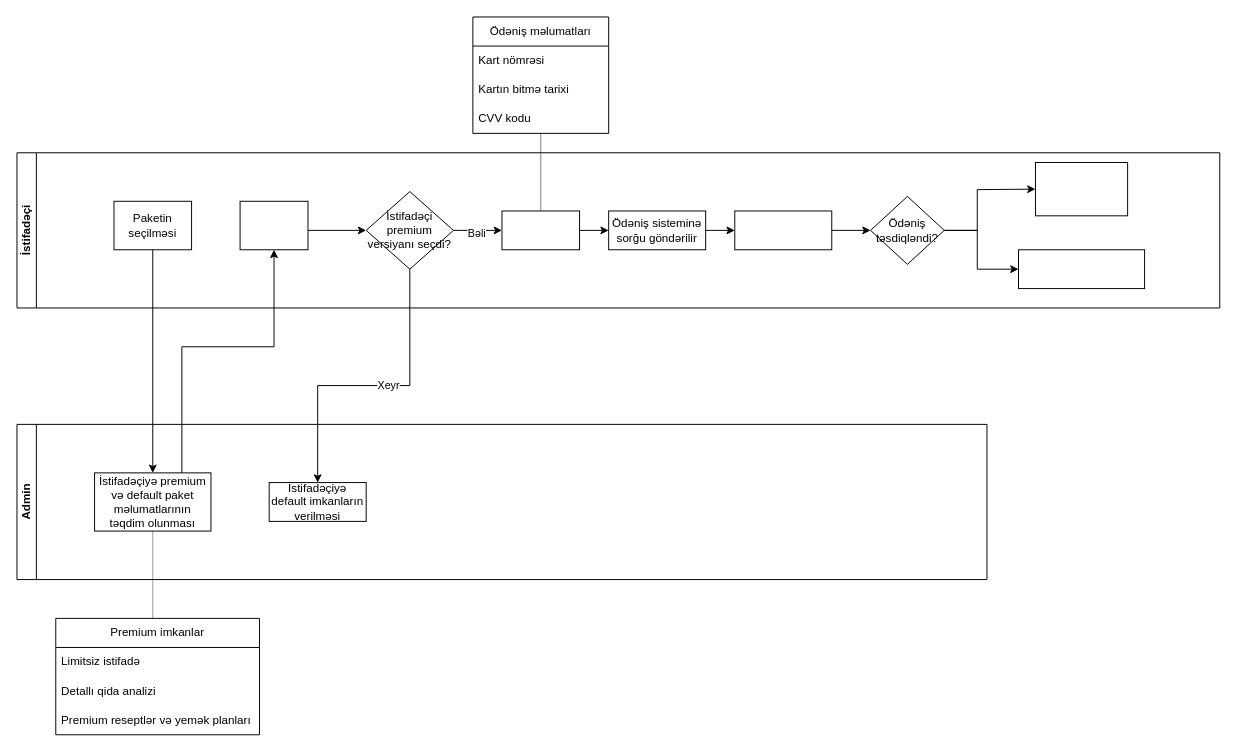
Some shapes in this 1237 by 752 pixel diagram are drawn without their labels. Here are the shapes that lost their labels. From the top down, the centre of each, then its label:
At [1081,189]: "Premium imkanlarının aktivləşdirilməsi".
At [273,225]: "İstifadəçi paket seçimini edir".
At [540,230]: "Ödəniş məlumatlarının daxil edilməsi".
At [783,230]: "Ödənişin təsdiqlənməsi gözlənilir".
At [1081,269]: "Ödənişin yenidən cəhd edilməsi və ya default versiyaya keçid".
